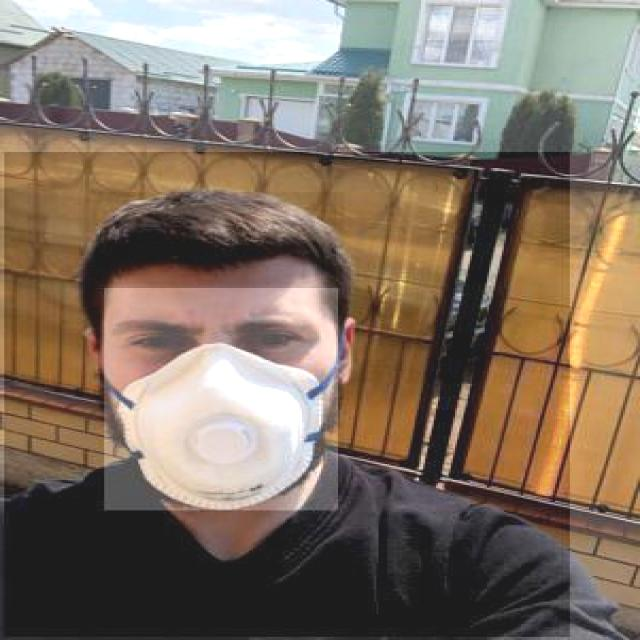face_mask: (102, 288, 338, 512)
head_nohelmet: (92, 192, 344, 285)
person: (2, 152, 570, 638)
